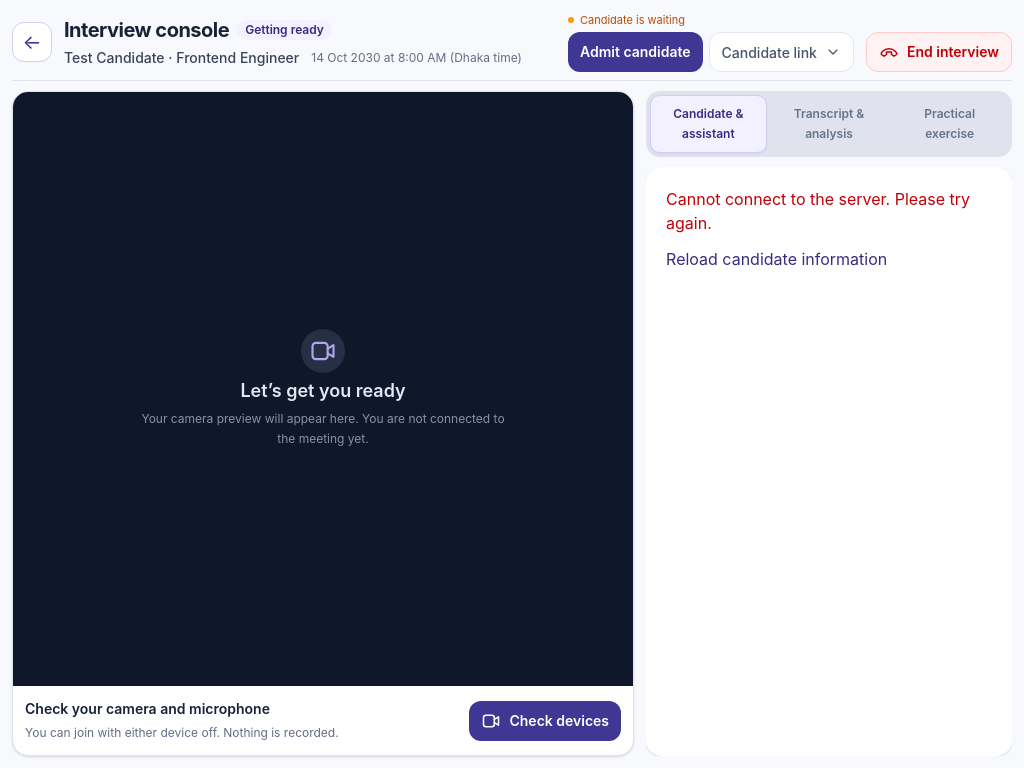
Test case: shows a waiting candidate and admits them without joining media automatically
Expected: the element named "Candidate admission" is shown, [568,12,854,72]
Expected: the link named "Back to interviews" is shown, [12,22,52,62]
What coordinates should you click on to do the following:
click the button "Admit candidate"
I would click on:
 (635, 52)
Its box is [568,32,703,72].
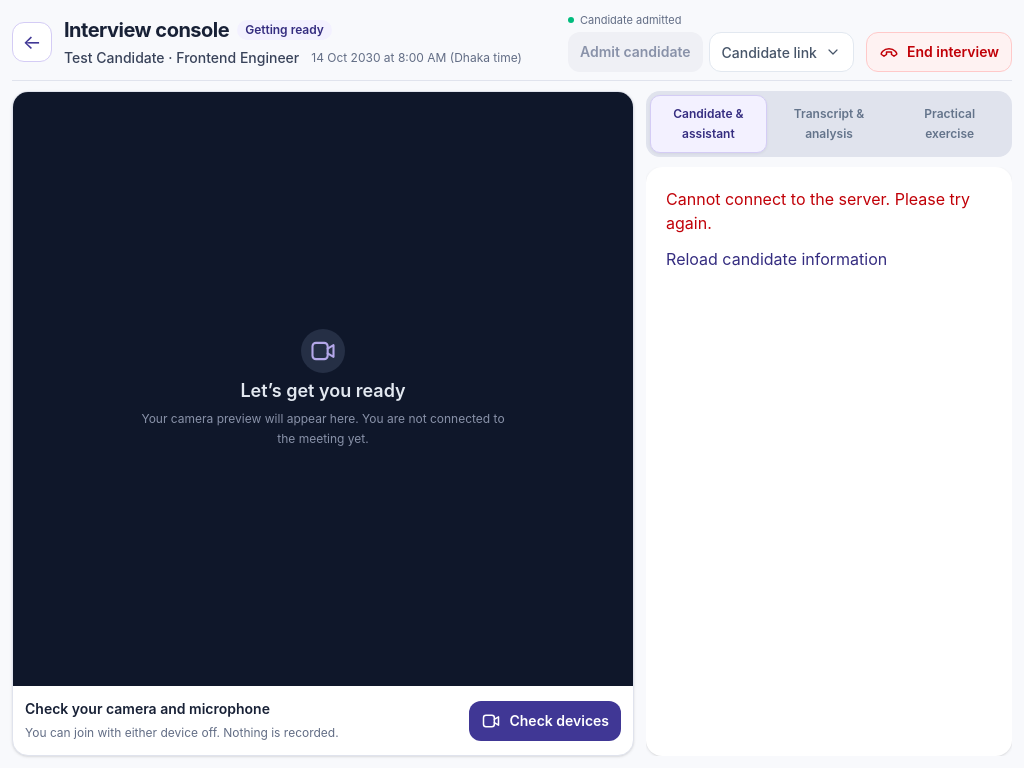
Result: the text "Candidate admitted" is shown at [568,13,682,27]
